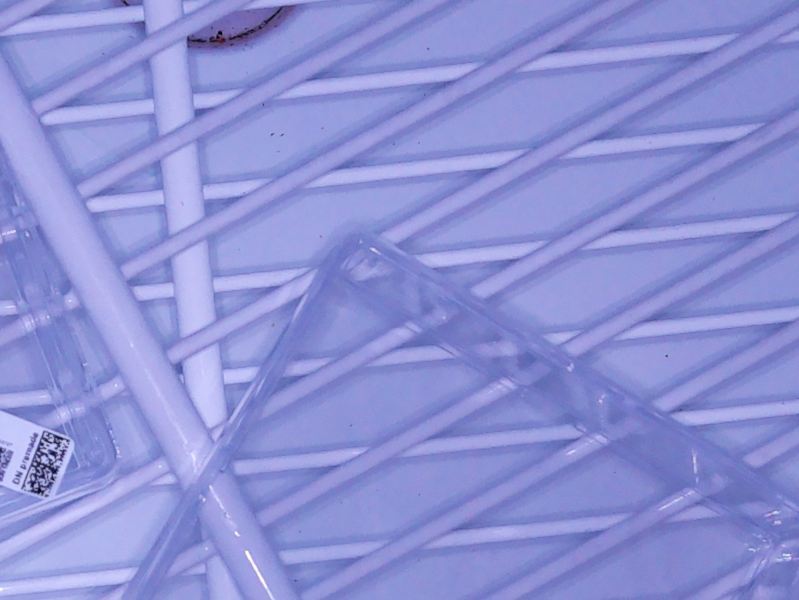plate: (121, 226, 799, 600), (1, 179, 125, 531)
